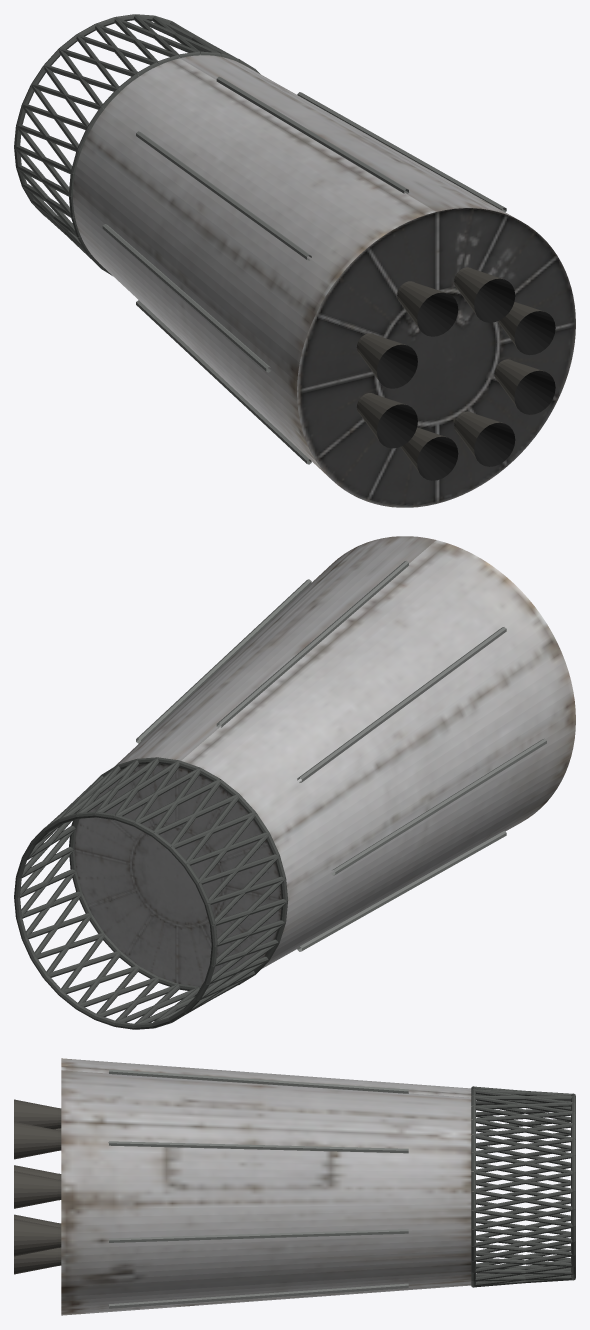
The model's file is block_b.obj.
The picture shows the model from 3 angles, top to bottom: view 1: azimuth 30°, elevation 25°; view 2: azimuth 150°, elevation 25°; view 3: azimuth 270°, elevation 25°; orthographic projection. The views are drawn at different scales.
Visible parts, largest first — view 1: block_b_hull, block_b_aft_cap, block_b_interstage, block_b_pipes, b_engine_03_interior, b_engine_06_interior, b_engine_02_interior, b_engine_07_interior, b_engine_05_interior, b_engine_08_interior, b_engine_01_interior, b_engine_04_interior (+8 smaller); view 2: block_b_hull, block_b_interstage, block_b_forward_cap, block_b_pipes; view 3: block_b_hull, block_b_interstage, block_b_pipes, b_engine_01, b_engine_02, b_engine_08, b_engine_03, b_engine_07.
Boxes of the visible parts, <box> form: block_b_hull: <box>73,54,517,477</box>; block_b_aft_cap: <box>297,208,575,507</box>; block_b_interstage: <box>14,14,259,275</box>; block_b_pipes: <box>102,76,506,464</box>; b_engine_03_interior: <box>417,292,458,336</box>; b_engine_06_interior: <box>417,436,458,480</box>; b_engine_02_interior: <box>474,278,515,322</box>; b_engine_07_interior: <box>474,422,515,466</box>; b_engine_05_interior: <box>376,404,417,448</box>; b_engine_08_interior: <box>514,370,555,414</box>; b_engine_01_interior: <box>514,311,555,355</box>; b_engine_04_interior: <box>376,344,417,388</box>; block_b_hull: <box>114,536,575,968</box>; block_b_interstage: <box>14,757,287,1029</box>; block_b_forward_cap: <box>74,763,281,986</box>; block_b_pipes: <box>136,561,546,951</box>; block_b_hull: <box>61,1058,473,1315</box>; block_b_interstage: <box>471,1086,575,1287</box>; block_b_pipes: <box>108,1069,408,1308</box>; b_engine_01: <box>14,1171,61,1208</box>; b_engine_02: <box>14,1121,61,1159</box>; b_engine_08: <box>14,1218,61,1256</box>; b_engine_03: <box>14,1099,61,1129</box>; b_engine_07: <box>14,1247,61,1274</box>.
Bounding box in the file's own units: 10.35 × 10.38 × 22.5.
5 materials, 1 textured.
